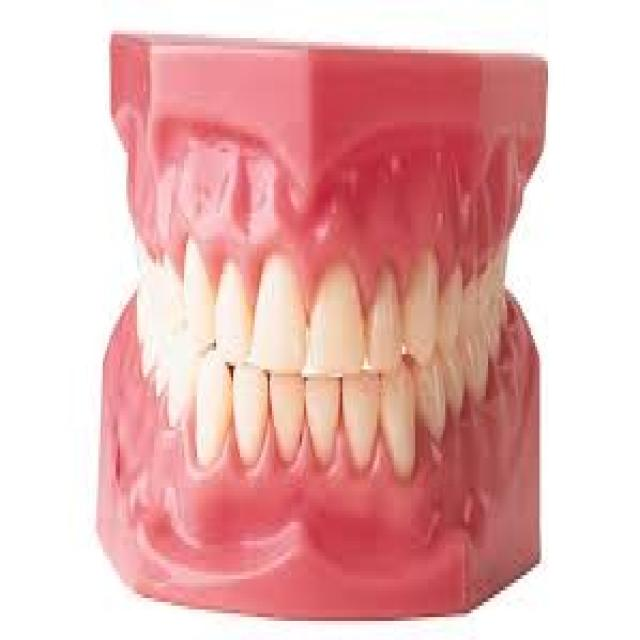tooth: (128, 232, 195, 427), (255, 252, 306, 374), (314, 255, 362, 377), (360, 251, 402, 381), (404, 240, 441, 370), (342, 362, 381, 476), (464, 266, 518, 346), (195, 358, 233, 469), (212, 255, 250, 362), (236, 358, 270, 476), (386, 370, 416, 472), (306, 377, 338, 465), (268, 370, 300, 457), (420, 358, 443, 453), (469, 301, 492, 392), (439, 263, 462, 347), (447, 358, 467, 415)
